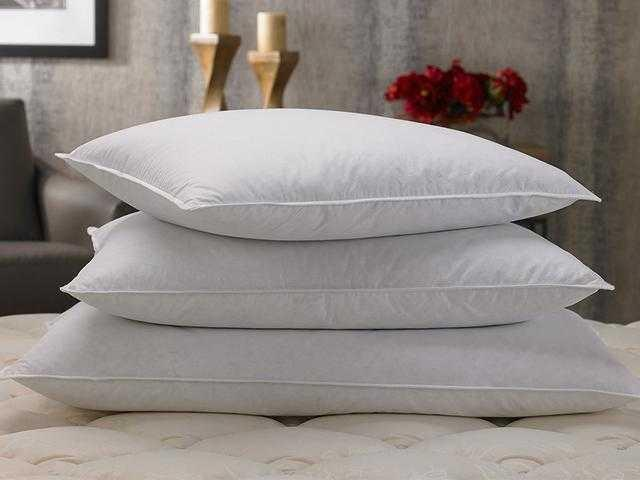pillow: (1, 300, 639, 418), (53, 106, 602, 242), (59, 210, 615, 330)
